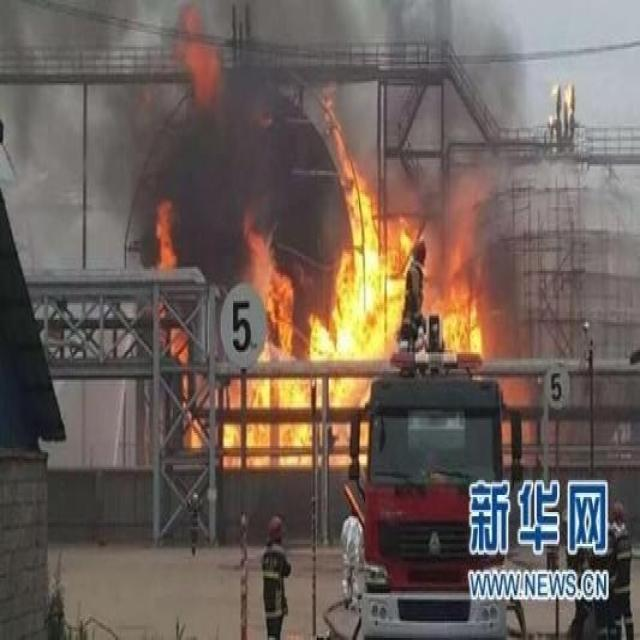Fire: (218, 100, 482, 474), (178, 8, 223, 102), (148, 196, 178, 271), (170, 322, 190, 365)
Smoke: (470, 20, 570, 365), (1, 2, 178, 187), (245, 12, 470, 112), (178, 113, 222, 280)
